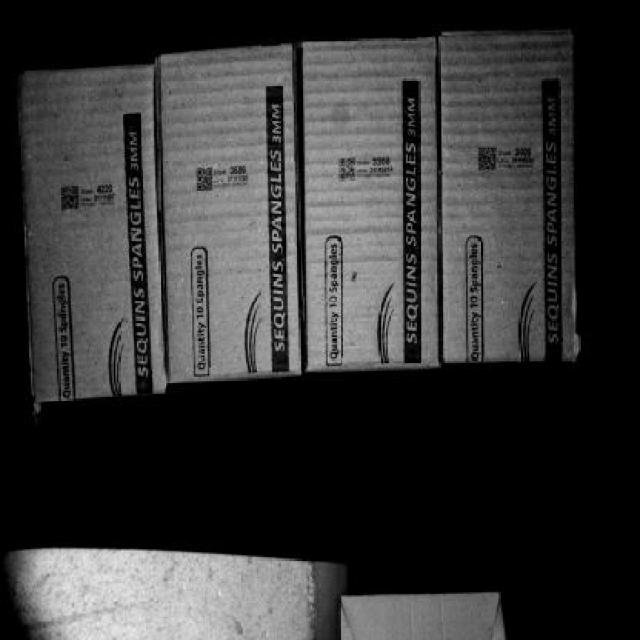cardboxes: (158, 56, 305, 382), (19, 71, 161, 392), (306, 43, 448, 363), (450, 31, 578, 362)
